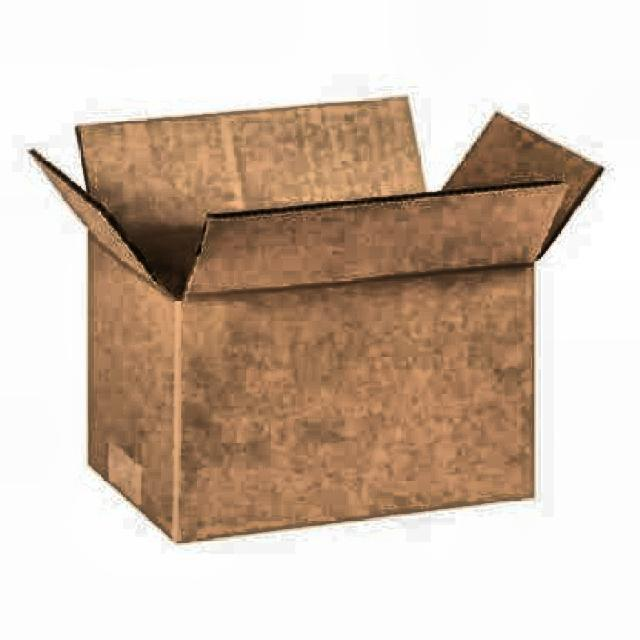Cardbox: (25, 86, 612, 560)
